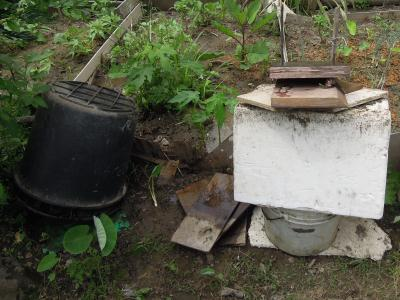bowl: (260, 204, 345, 257)
bucket: (9, 76, 141, 228)
styrofoam: (232, 97, 390, 220)
